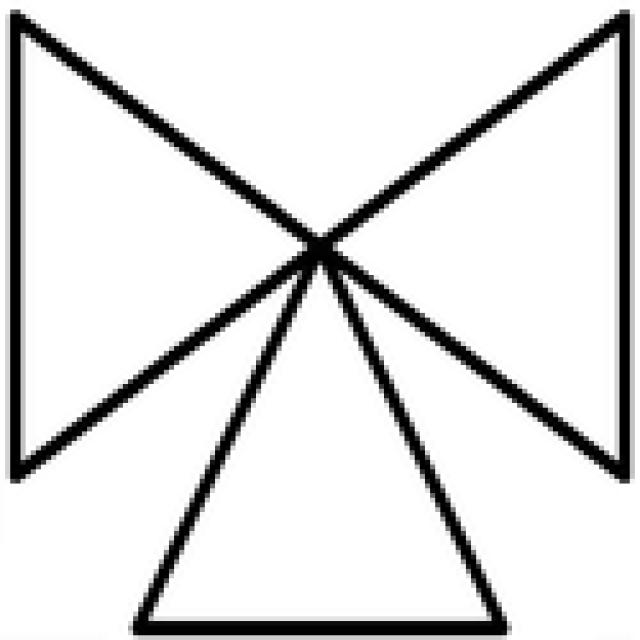3-way Valve: (10, 9, 625, 631)
